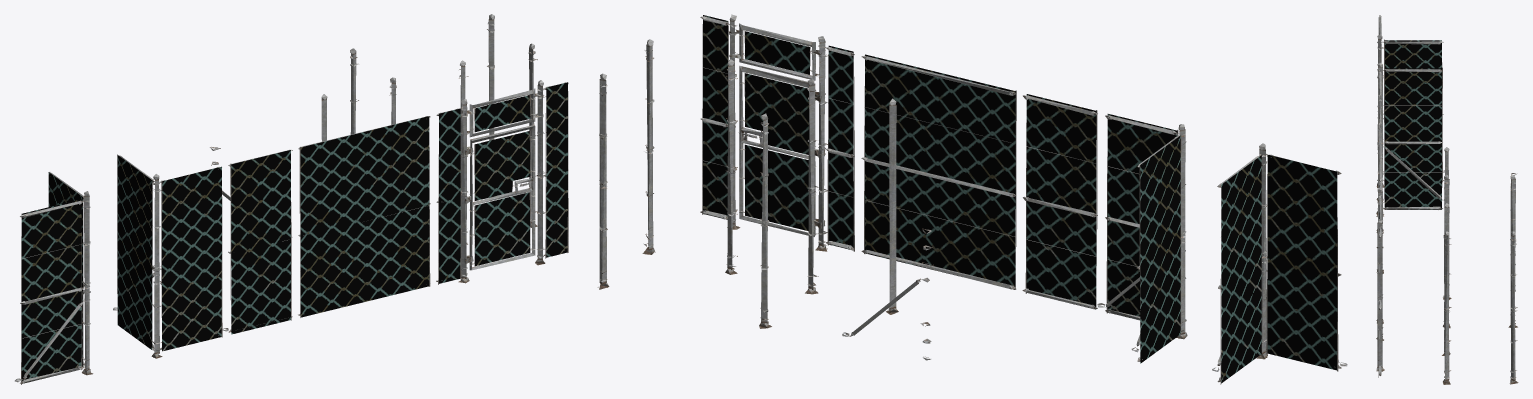
File: modular_chainlink_fence.fbx
3 renders of one model, left to right at view 1: azimuth 30°, elevation 25°; view 2: azimuth 150°, elevation 25°; view 3: azimuth 270°, elevation 25°, orthographic. The views are drawn at different scales.
Visible parts, largest first — view 1: modular_chainlink_fence_LOD0; view 2: modular_chainlink_fence_LOD0; view 3: modular_chainlink_fence_LOD0.
Boxes of the visible parts, x1=… form: modular_chainlink_fence_LOD0: x1=14, y1=14, x2=568, y2=384; modular_chainlink_fence_LOD0: x1=597, y1=14, x2=1347, y2=384; modular_chainlink_fence_LOD0: x1=1376, y1=15, x2=1518, y2=384.
Size of what is drawn, in the model's own units: 813 by 253 by 215.
2 materials, 2 textured.
